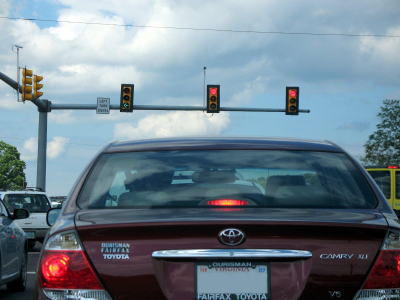trafficlight_green: (122, 86, 131, 110)
trafficlight_red: (209, 87, 218, 110), (288, 89, 297, 112)
